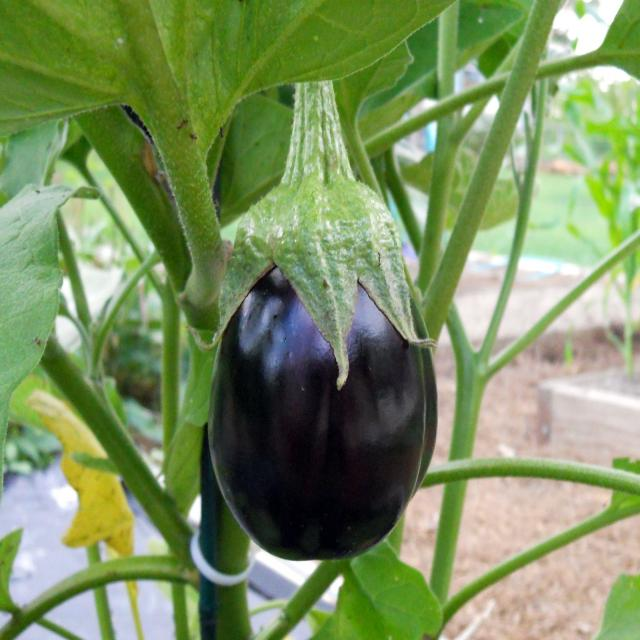eggplant: (206, 205, 441, 567)
